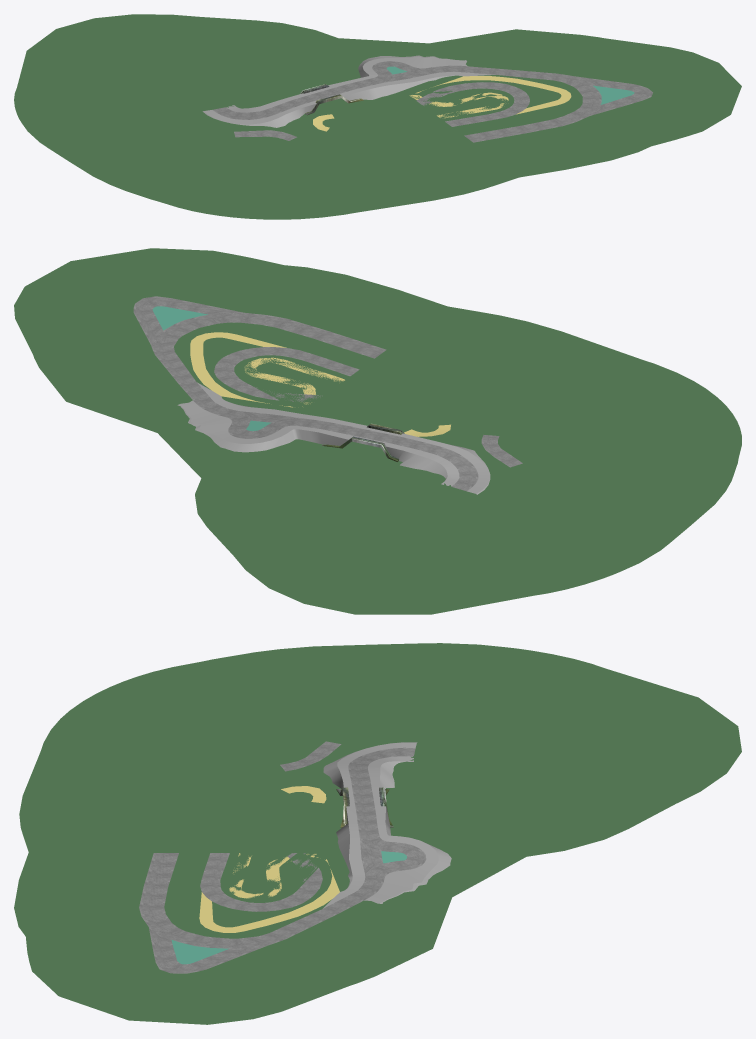
The model's file is trassa_test_Igora.fbx.
The picture shows the model from 3 angles, top to bottom: view 1: azimuth 30°, elevation 25°; view 2: azimuth 150°, elevation 25°; view 3: azimuth 270°, elevation 25°; orthographic projection. The views are drawn at different scales.
Parts seen in each view (by area): view 1: polySurface31; view 2: polySurface31; view 3: polySurface31.
Boxes of the visible parts, <box> form: polySurface31: <box>14,14,741,219</box>; polySurface31: <box>14,248,741,614</box>; polySurface31: <box>14,643,741,1024</box>.
Size of the model in its own units: 80.87 by 1.97 by 65.17.
